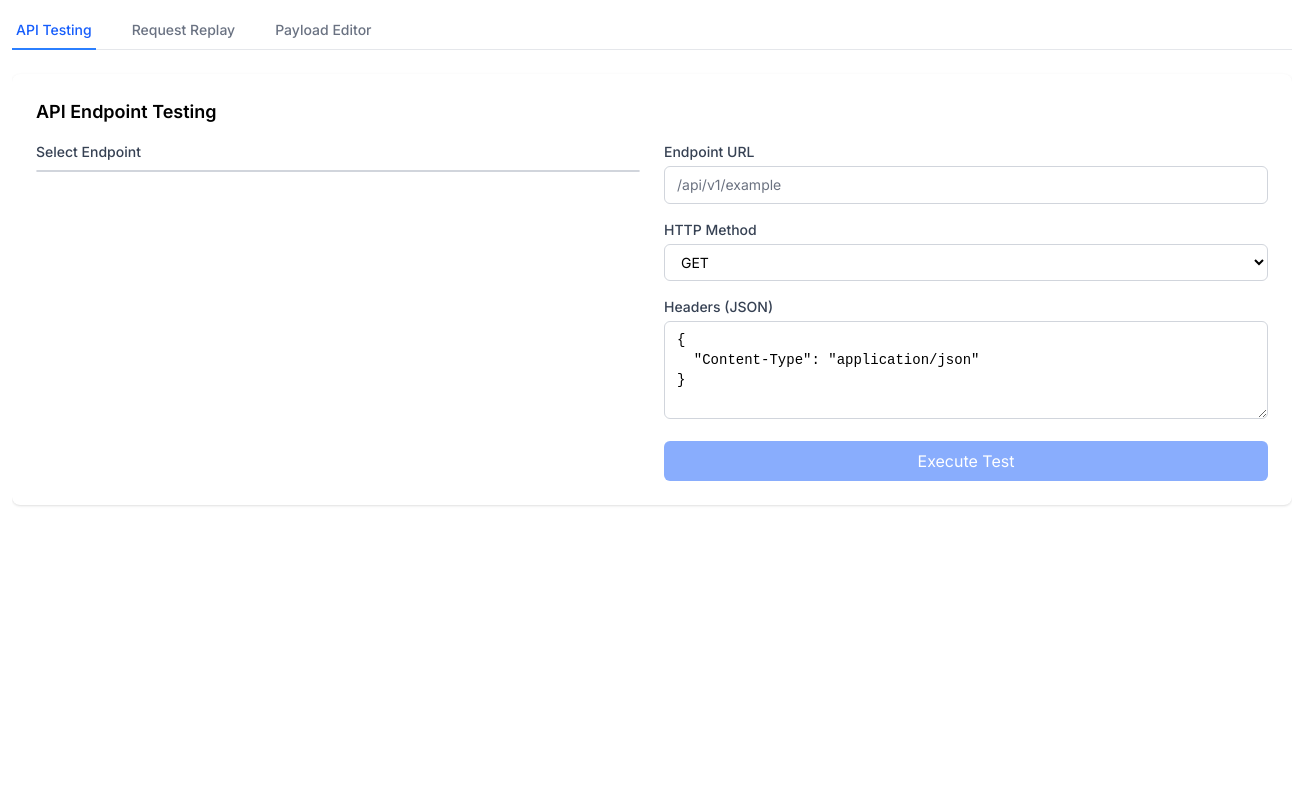
Test: DebuggingToolsInterface › handles API test error
Type "/api/v1/test/" into the field with placeholder "/api/v1/example" at (966, 185), box [664, 166, 1268, 204]
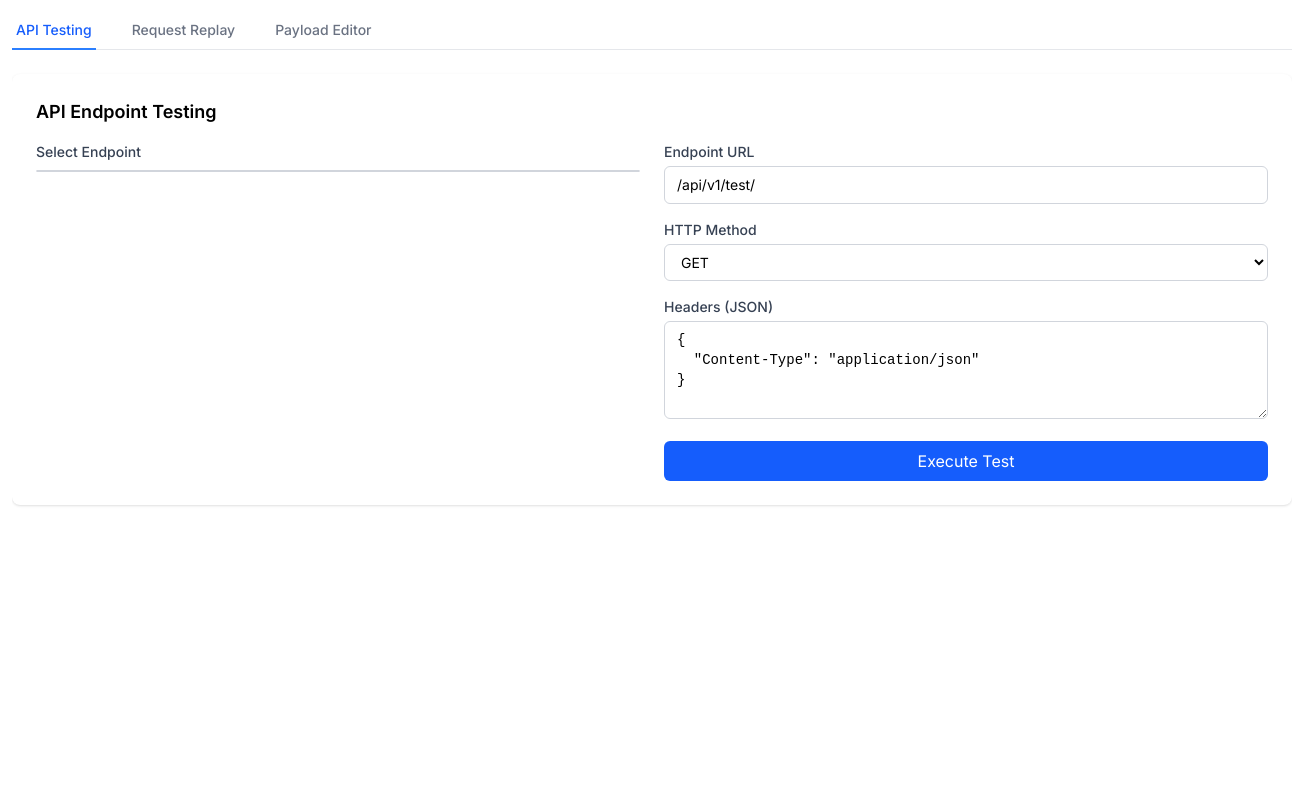
Click the button "Execute Test" at (966, 461), box [664, 441, 1268, 481]
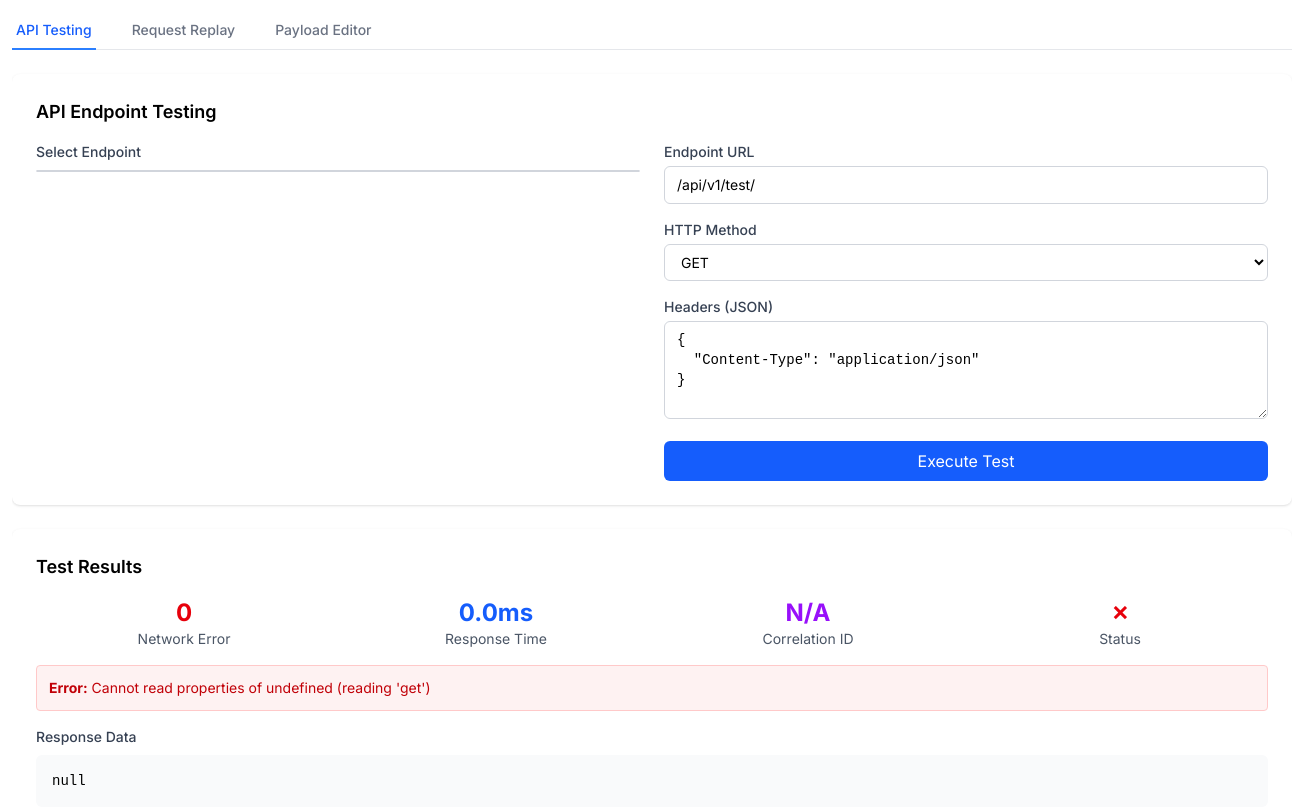
Expected: the text "Network Error" is shown, [138, 630, 230, 647]
